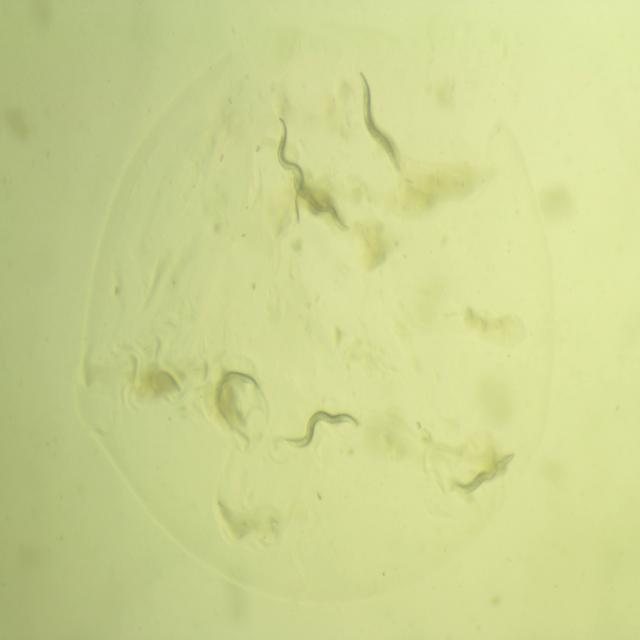worm: (352, 61, 411, 187), (278, 388, 368, 466), (208, 348, 268, 450), (268, 105, 314, 228), (446, 436, 526, 506), (288, 160, 354, 240)
